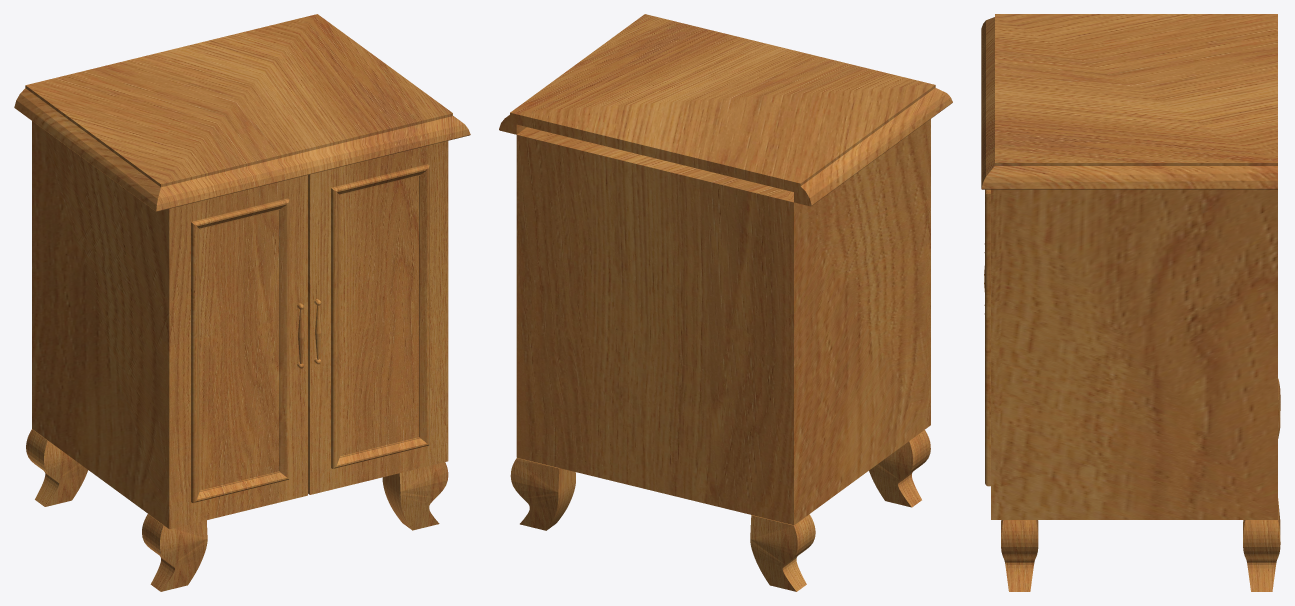
Rendered from BedSideTable.obj.
3 renders of one model, left to right at view 1: azimuth 30°, elevation 25°; view 2: azimuth 150°, elevation 25°; view 3: azimuth 270°, elevation 25°, orthographic. The views are drawn at different scales.
Parts seen in each view (by area): view 1: Layer_0, Line21, Line20, Line22; view 2: Layer_0, Line22, Line23, Line21; view 3: Layer_0, Line23, Line20.
Boxes of the visible parts, x1=… form: Layer_0: x1=14, y1=14, x2=470, y2=529; Line21: x1=142, y1=514, x2=207, y2=591; Line20: x1=382, y1=462, x2=448, y2=530; Line22: x1=26, y1=429, x2=88, y2=506; Layer_0: x1=499, y1=14, x2=952, y2=525; Line22: x1=750, y1=514, x2=815, y2=591; Line23: x1=510, y1=458, x2=575, y2=530; Line21: x1=869, y1=430, x2=930, y2=507; Layer_0: x1=981, y1=14, x2=1277, y2=519; Line23: x1=1243, y1=498, x2=1280, y2=591; Line20: x1=1001, y1=520, x2=1038, y2=591.
Bounding box in the file's own units: 5.76 × 7.25 × 4.54.
Materials: 2 (2 with a texture image).
